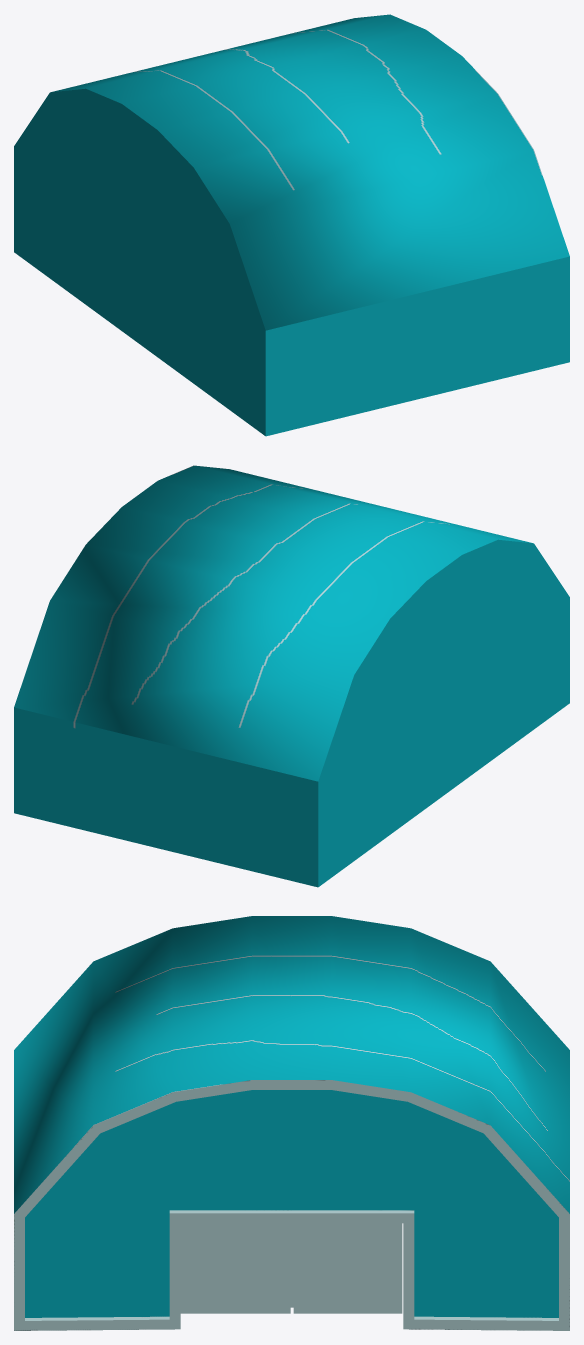
Rendered from GF_Hangar_v2.fbx.
The picture shows the model from 3 angles, top to bottom: view 1: azimuth 30°, elevation 25°; view 2: azimuth 150°, elevation 25°; view 3: azimuth 270°, elevation 25°; orthographic projection. The views are drawn at different scales.
Parts seen in each view (by area): view 1: Cylinder.003; view 2: Cylinder.003; view 3: Cylinder.003.
Part boxes in pixels (x1,y1,x2,y2): Cylinder.003: (14,14,569,436); Cylinder.003: (14,465,569,887); Cylinder.003: (14,916,569,1330).
Bounding box in the file's own units: 69.23 × 49.41 × 99.2.
